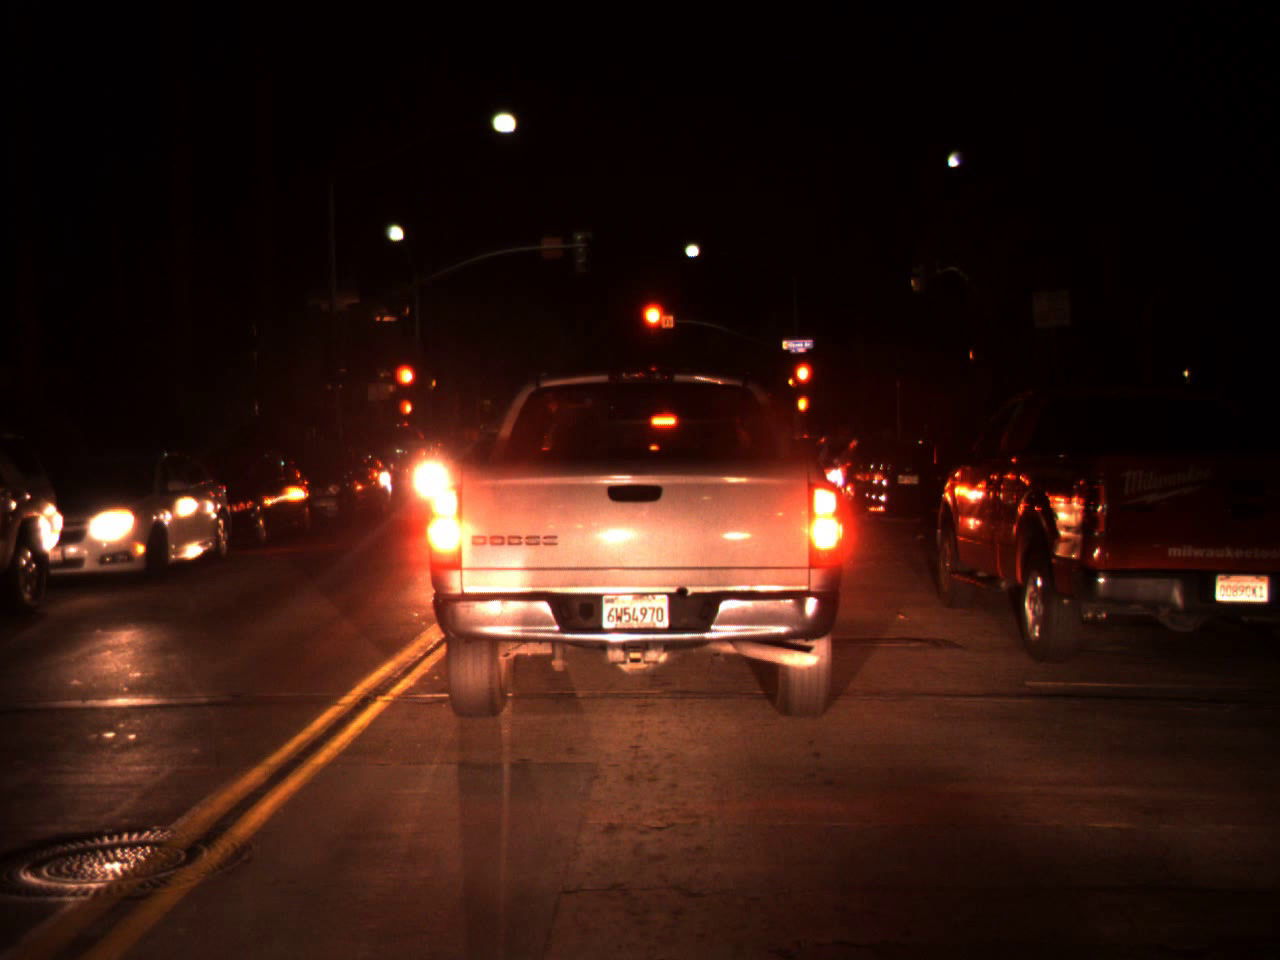stop: (641, 301, 671, 355), (392, 361, 419, 409), (792, 362, 813, 402)
